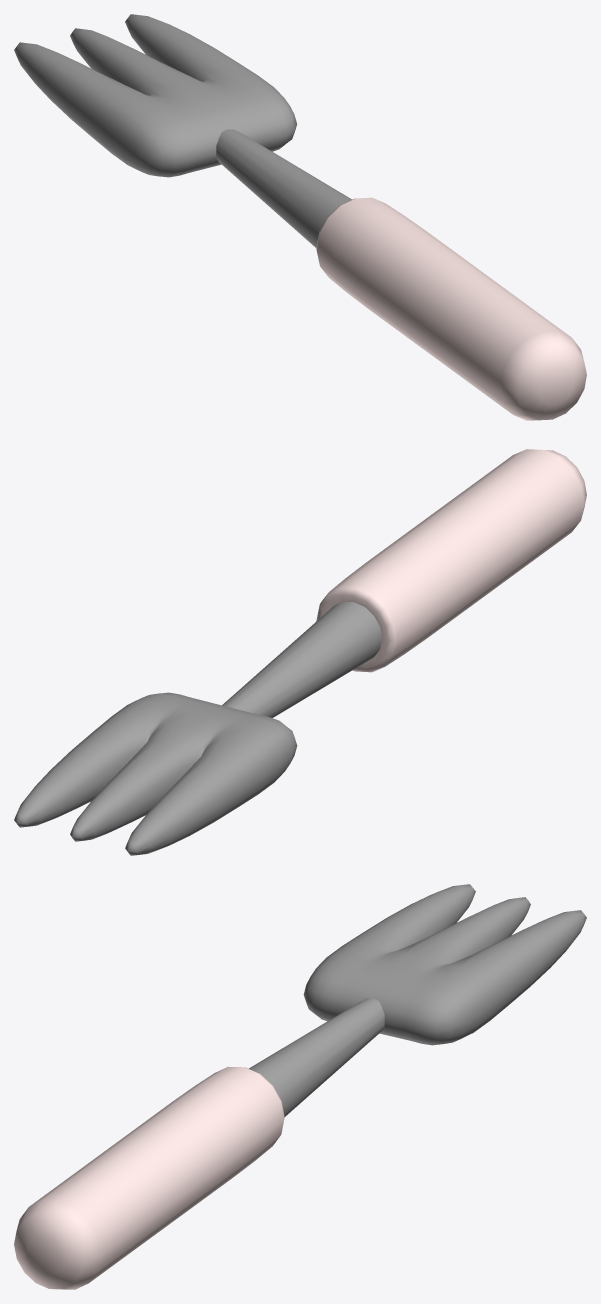
Rendered from Store_20_Fork_1.glb.
The picture shows the model from 3 angles, top to bottom: view 1: azimuth 30°, elevation 25°; view 2: azimuth 150°, elevation 25°; view 3: azimuth 330°, elevation 25°; orthographic projection.
Parts seen in each view (by area): view 1: Store_20_Fork_1; view 2: Store_20_Fork_1; view 3: Store_20_Fork_1.
Boxes of the visible parts, x1,y1,x2,y2 form: Store_20_Fork_1: (14,14,586,420); Store_20_Fork_1: (14,449,586,855); Store_20_Fork_1: (14,884,586,1289).
Size of the model in its own units: 0.0479 by 0.0251 by 0.2502.
1 material, 1 textured.
